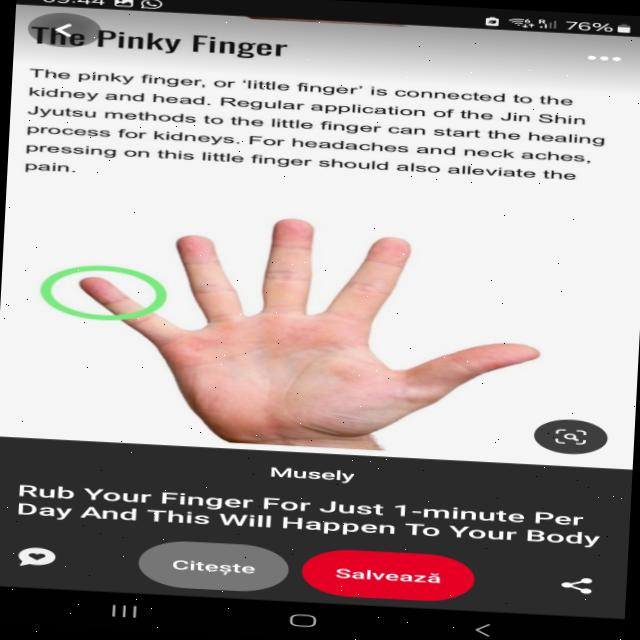hands: (2, 185, 592, 462)
